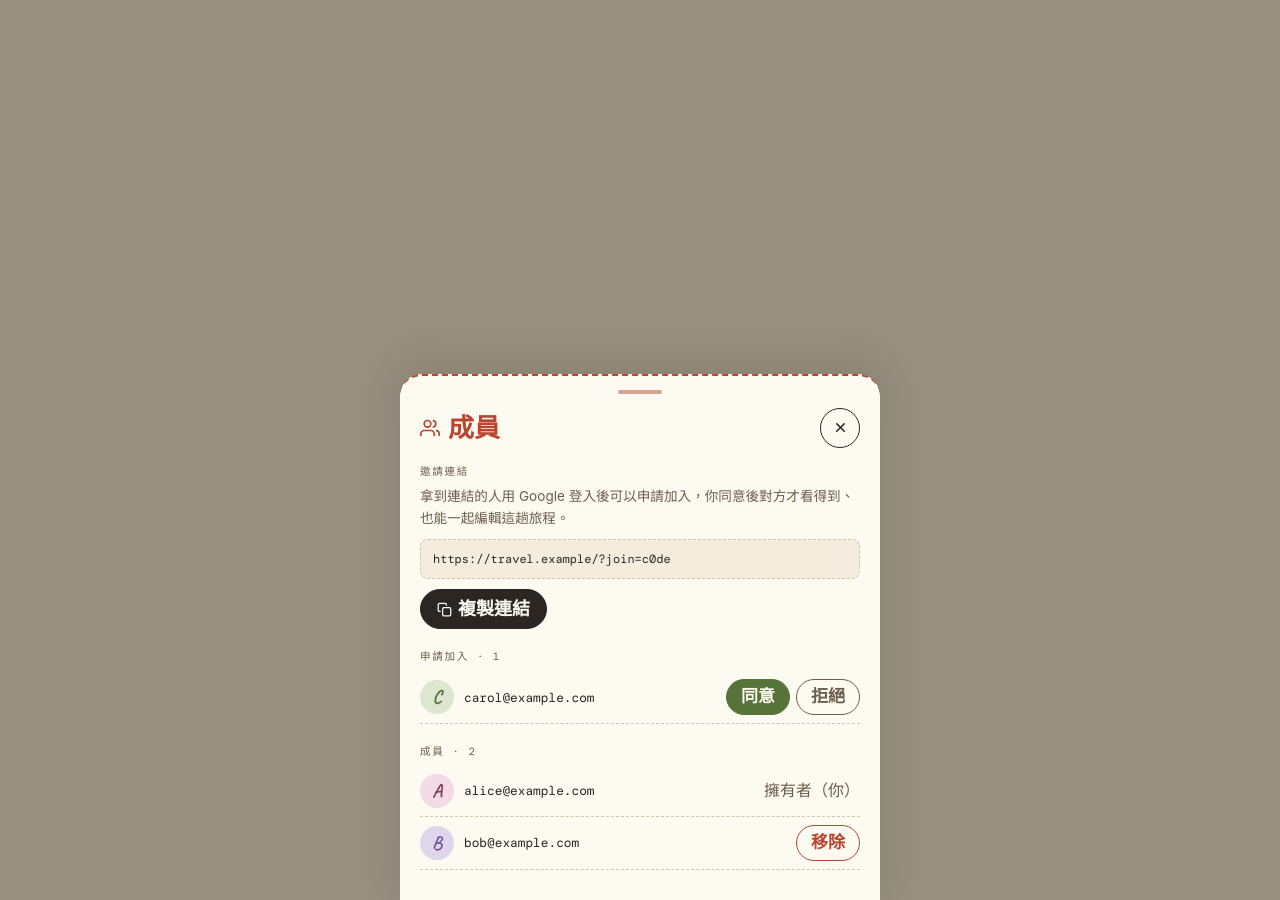
擁有者 › 同意申請後重新載入成員
Click the button "同意" at [758, 697], box x1=726 y1=679 x2=790 y2=715
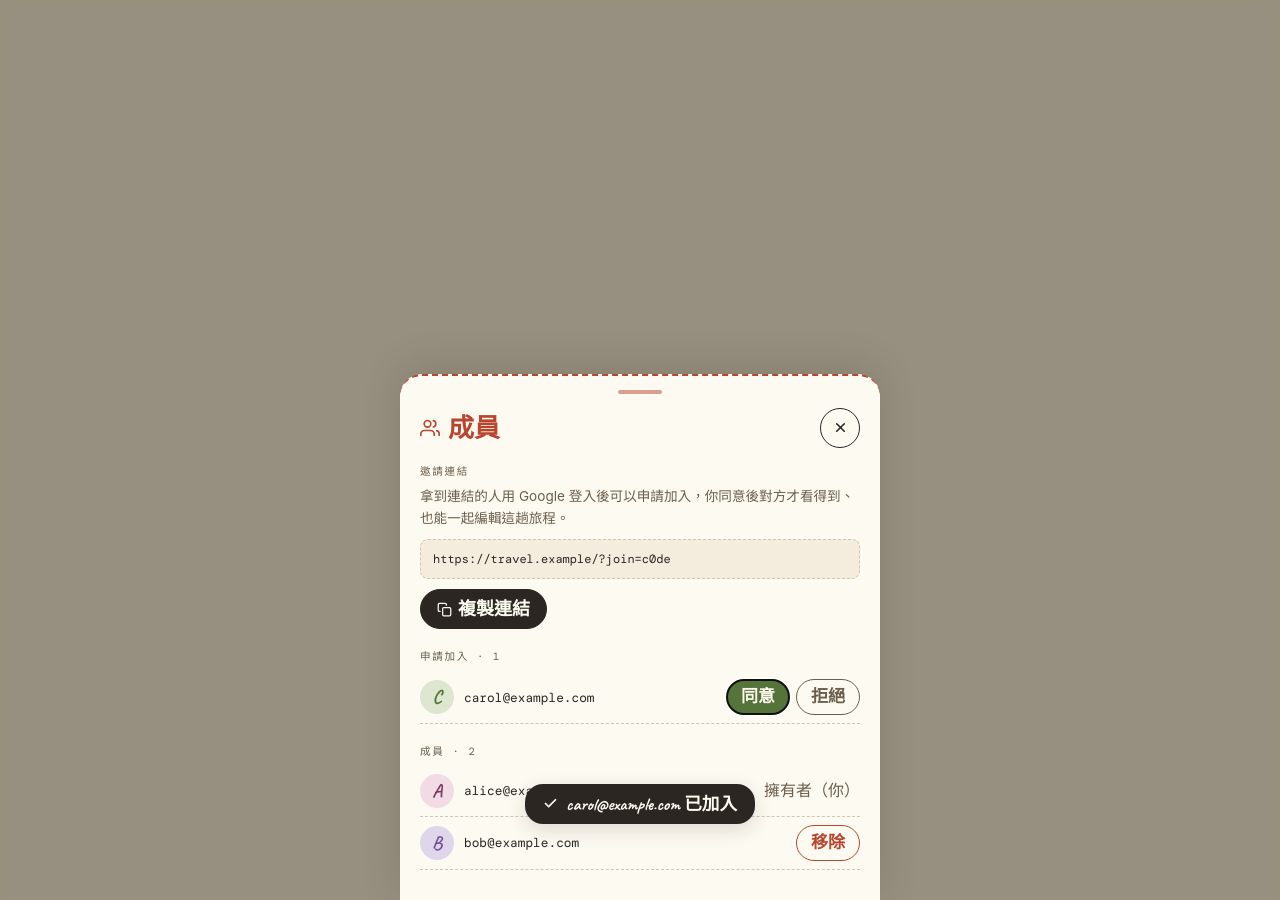
Expected: the message reads "carol@example.com 已加入", x1=566 y1=793 x2=737 y2=815
